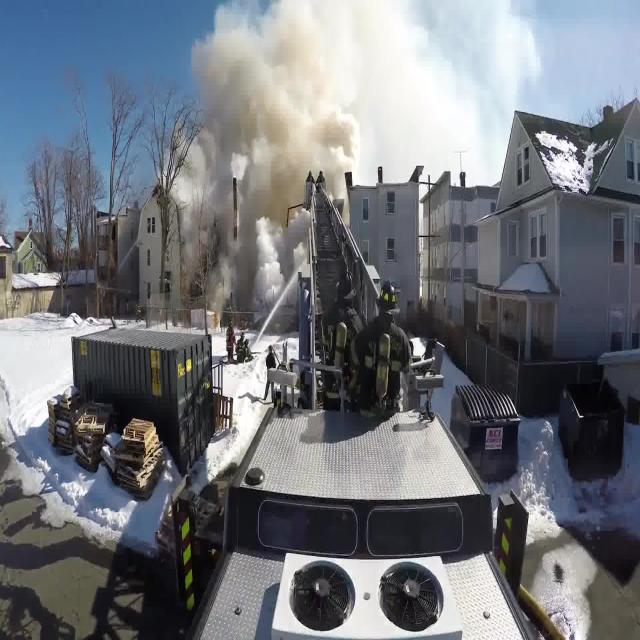Smoke: (168, 0, 356, 328)
